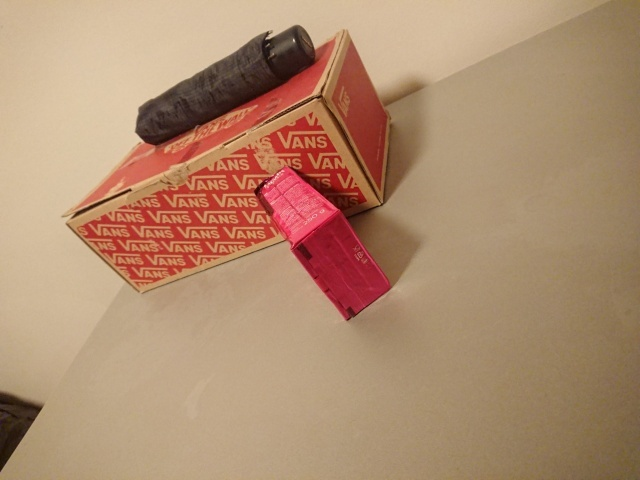Barcaffe Classic Original 225g: (250, 161, 396, 324)
